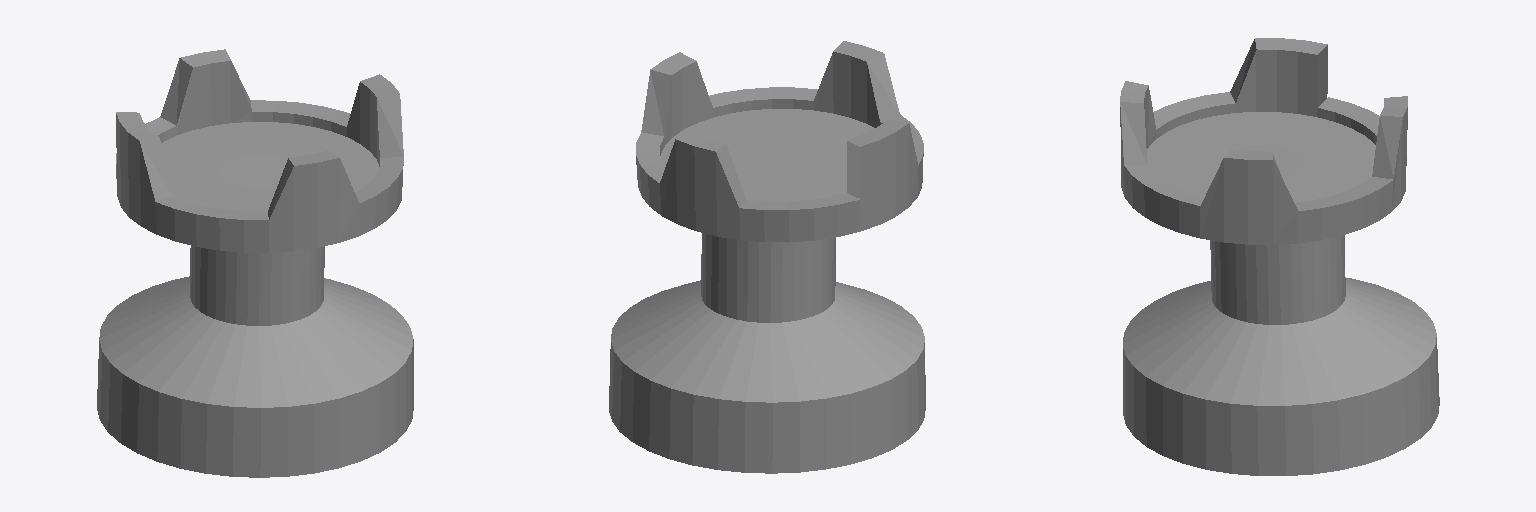
The model's file is whiterookwithtop.obj.
The picture shows the model from 3 angles: view 1: azimuth 30°, elevation 25°; view 2: azimuth 150°, elevation 25°; view 3: azimuth 270°, elevation 25°; orthographic projection.
Visible parts, largest first — view 1: Cube; view 2: Cube; view 3: Cube.
Part boxes in pixels (bbox=[...]): Cube: bbox=[97, 49, 413, 477]; Cube: bbox=[609, 41, 925, 473]; Cube: bbox=[1120, 38, 1439, 475].
Bounding box in the file's own units: 2.58 × 2.8 × 2.6.